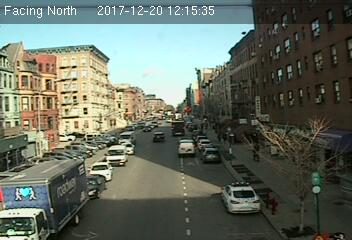car: (86, 162, 114, 182), (202, 148, 221, 164), (121, 142, 135, 154), (152, 131, 164, 142)
police: (220, 182, 262, 213)
truck: (1, 159, 90, 240), (105, 146, 127, 166), (178, 138, 195, 158), (118, 131, 137, 145)
ups: (171, 120, 185, 136)
